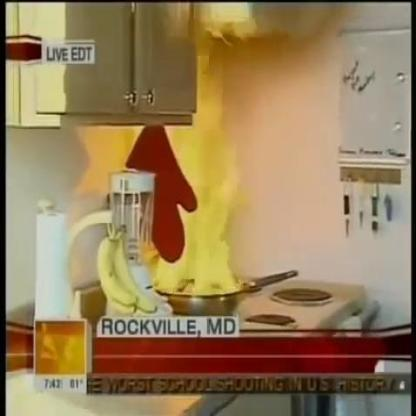fire: (151, 117, 247, 298)
